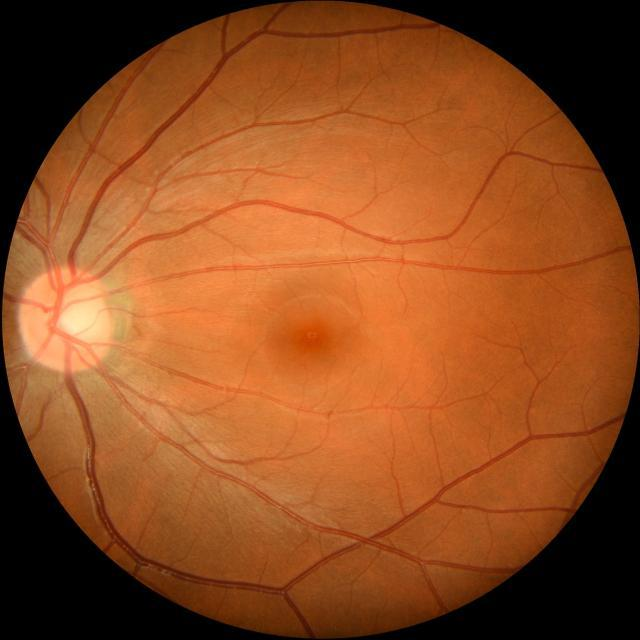OC: (54, 291, 100, 342)
OD: (17, 268, 114, 373)
